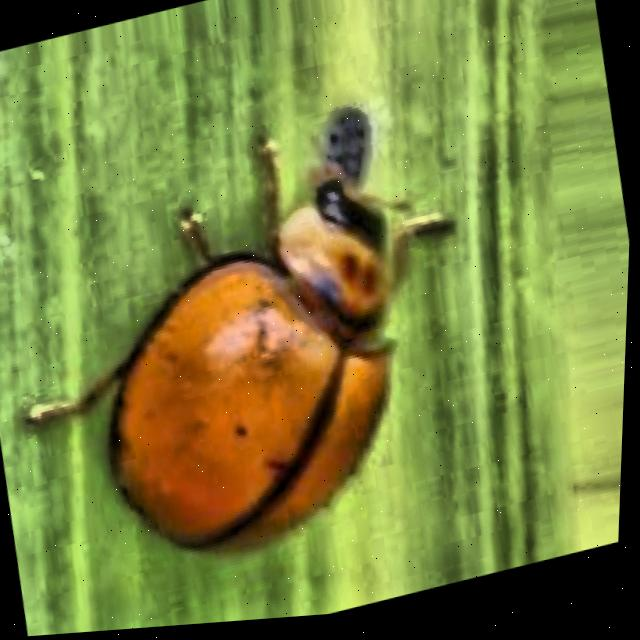Ladybug: (0, 53, 526, 639)
